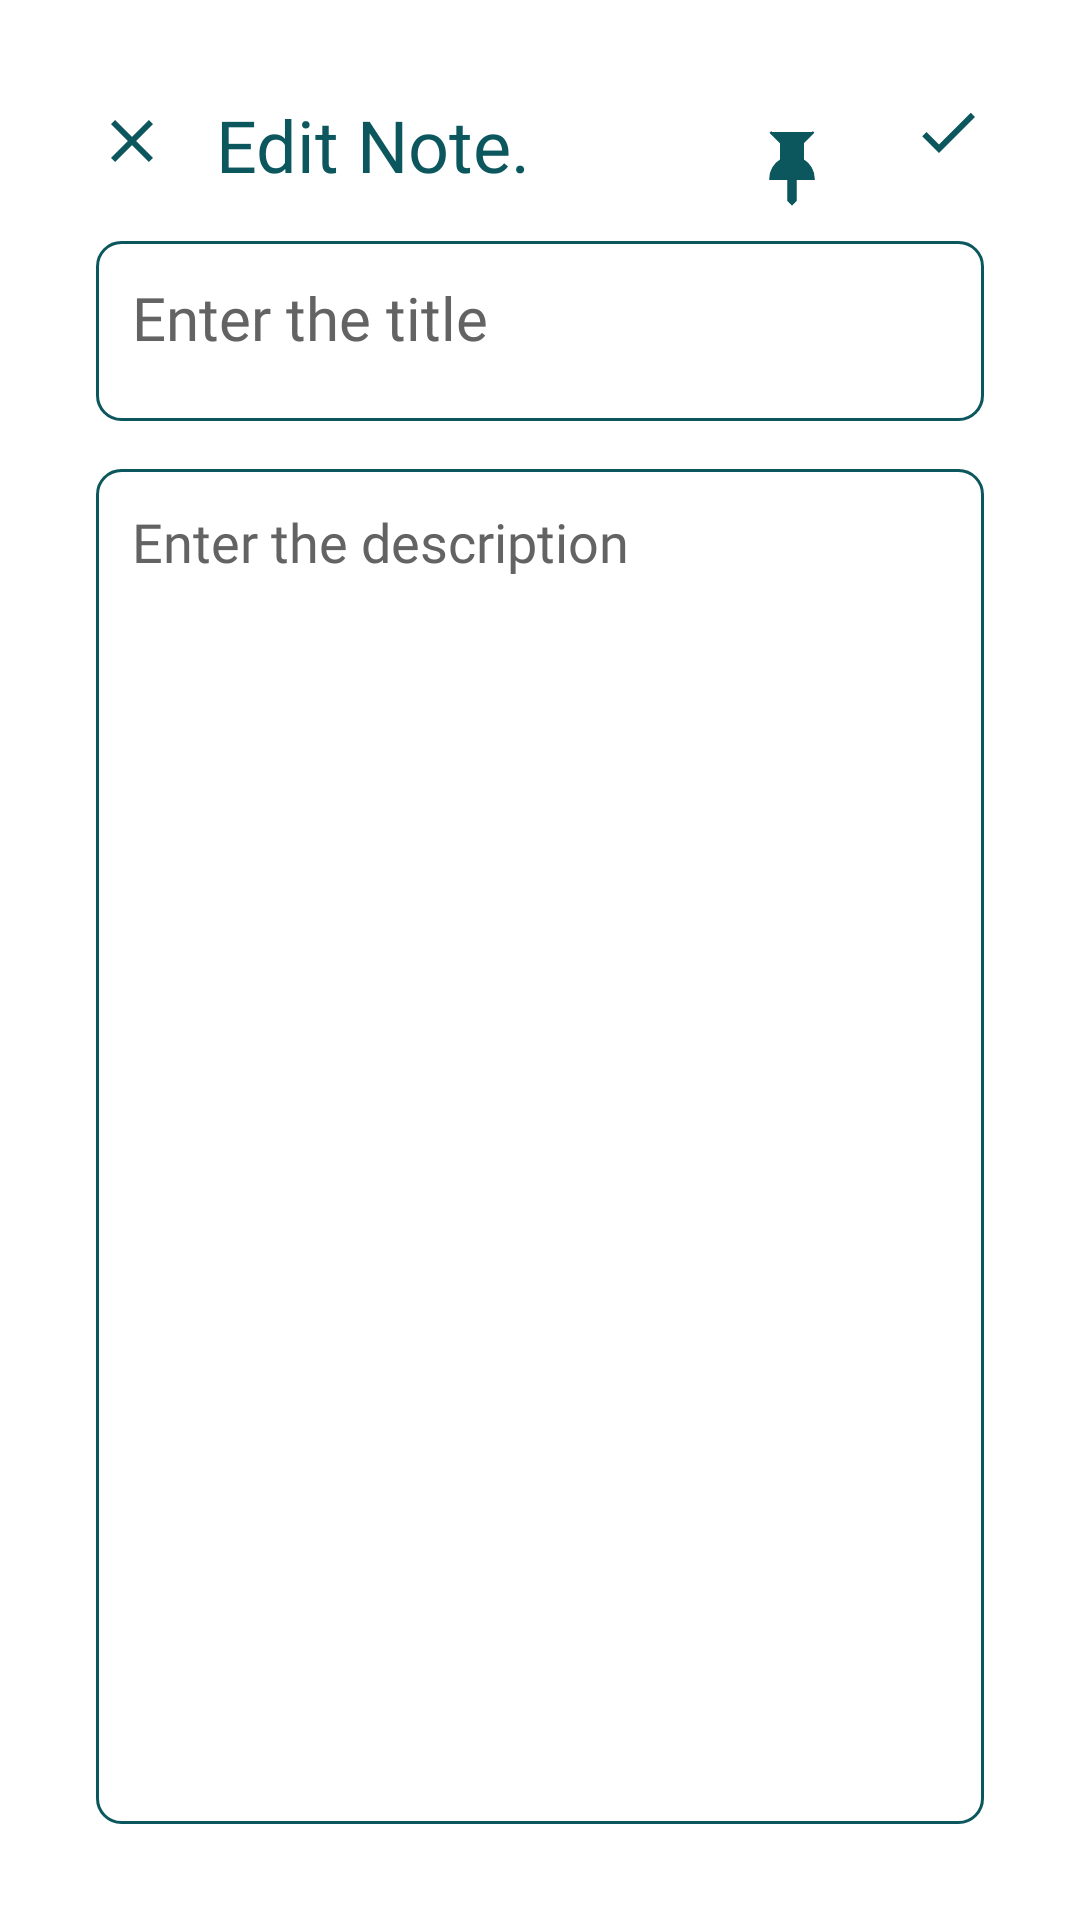

Named icons in this screenshot (1080x1920) and their centers, (x,y):
close: (132,141)
pin: (792,168)
Save the note: (948,133)
